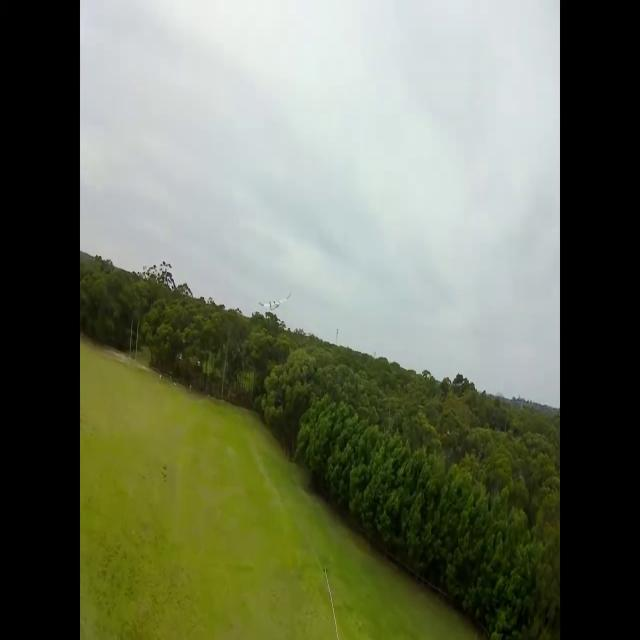iha: (260, 295, 291, 313)
